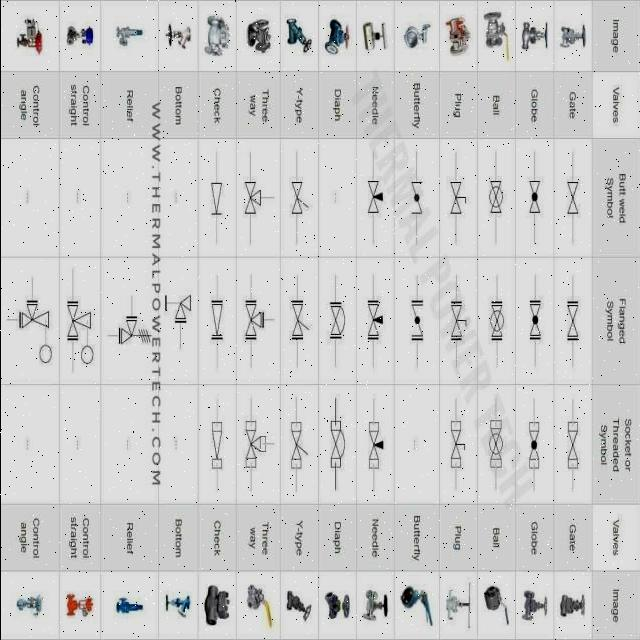3 Way Gate Valve: (240, 175, 266, 221)
Ball Valve: (482, 174, 505, 222)
Butterfly Valve: (404, 172, 426, 220)
Cock Valve: (445, 170, 468, 218)
Flanged: (560, 290, 584, 350)
Flanged Ball: (484, 294, 508, 350)
Flanged Butterfly: (406, 292, 426, 349)
Flanged Cock: (446, 292, 470, 350)
Flanged Globe: (522, 294, 546, 353)
Gate Valve: (563, 168, 581, 218)
Globe Valve: (524, 173, 542, 226)
Needle Valve: (364, 166, 388, 224)
